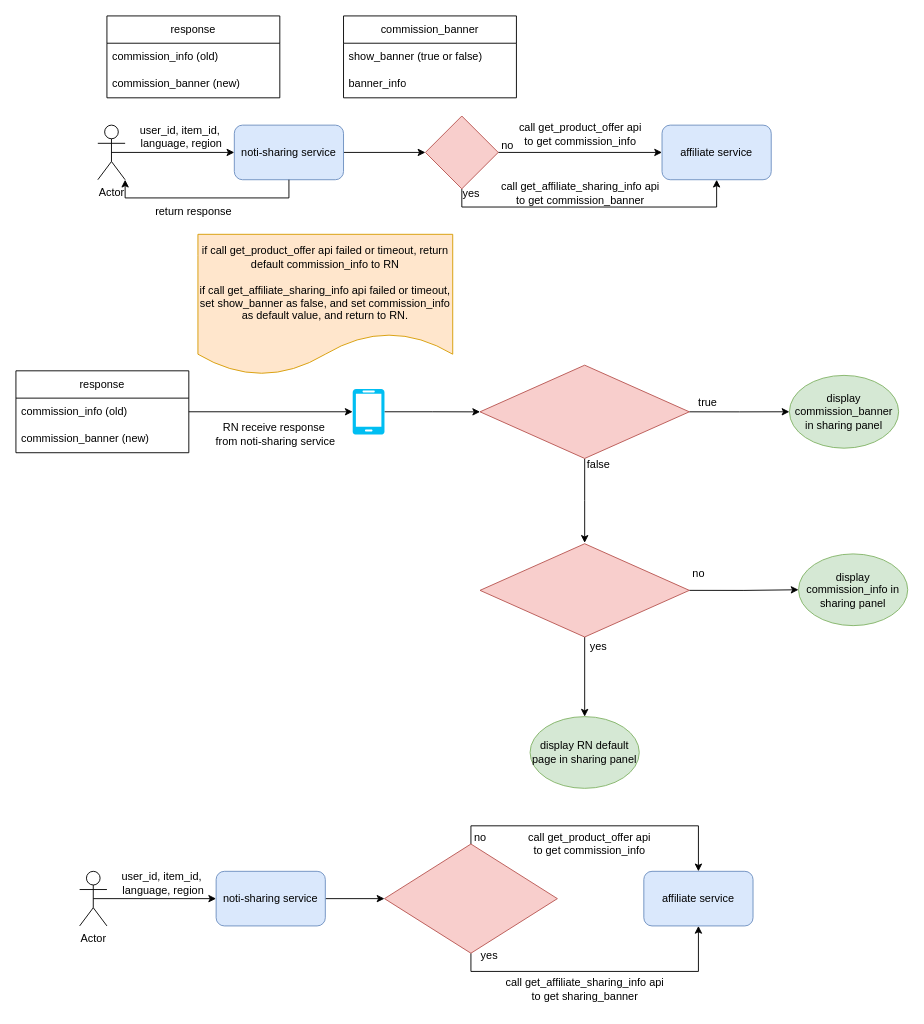
Image size: 924x1024. Some labels were removed from this diagram. Each missing label, with the centre of its shape:
"check commission_banner. show_banner is true or false" goes at point 584,411.
"check commission_info is empty or not" goes at point 584,590.
"region in whitelist" goes at point 461,152.
"region in whitelist and user_id % 100 < greyscale_percentage" goes at point 470,898.
